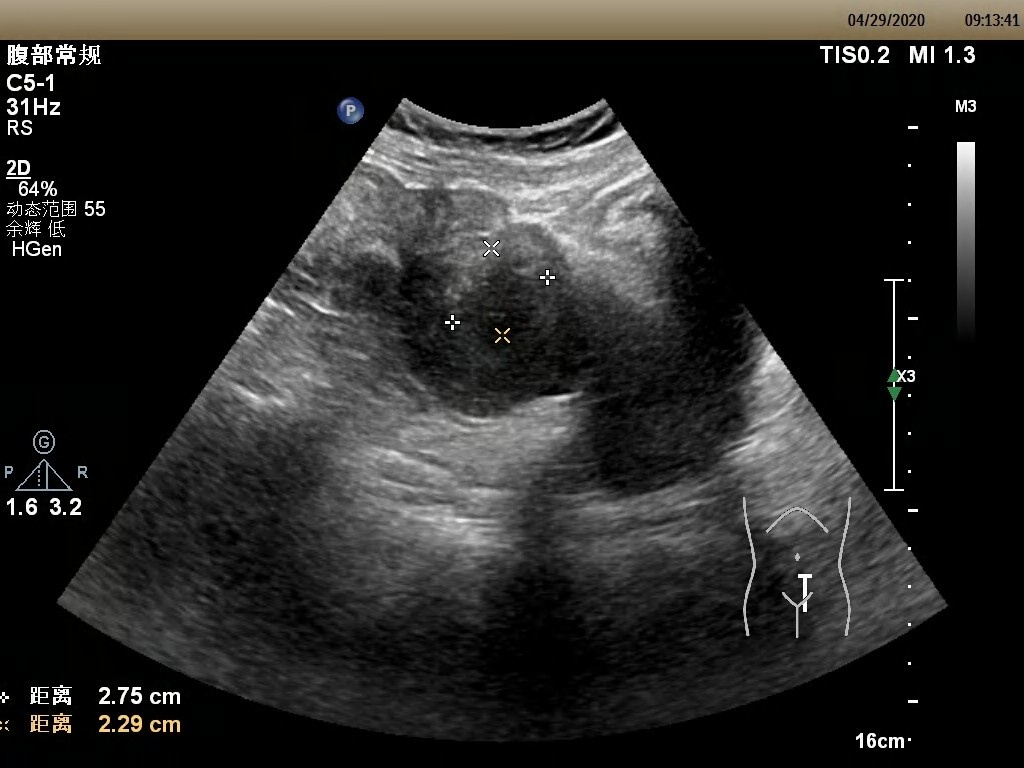肌瘤: (451, 249, 550, 339)
